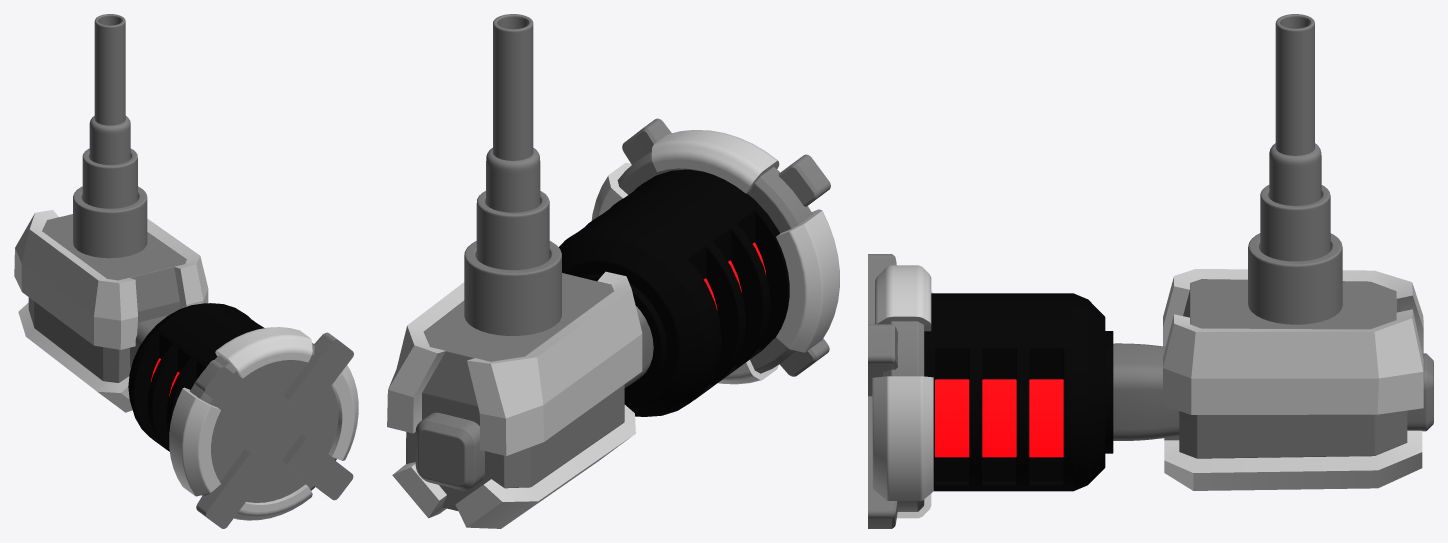
The model's file is LaserShooterFixed3.fbx.
The picture shows the model from 3 angles, left to right: view 1: azimuth 30°, elevation 25°; view 2: azimuth 150°, elevation 25°; view 3: azimuth 270°, elevation 25°; orthographic projection. The views are drawn at different scales.
Parts seen in each view (by area): view 1: ok, Cylinder.002, Cylinder.005, Cube.004, Cylinder.001, Cylinder.004, Cylinder.006_Plate.002, Cylinder.006_Plate, Cube.007, Cube.006, Cylinder.006_Plate.001, Cube.005 (+4 smaller); view 2: Cylinder.005, ok, Cube.004, Cylinder.001, Cylinder.006_Plate.002, Cube.009, Cylinder.006_Plate, Cylinder.004, Cube.003, Cylinder.006_Plate.001, Cylinder.002, Cylinder.006 (+3 smaller); view 3: Cylinder.005, ok, Cube.004, Cube.009, Cylinder.007, Cylinder.001, Cube.003, Cylinder.006_Plate.002, Cylinder.006_Plate, Cylinder.006_Plate.001, Cylinder.004, Cylinder.006 (+4 smaller).
Boxes of the visible parts, x1,y1,x2,y2 form: ok: (14,210,208,349); Cylinder.002: (190,343,338,502); Cylinder.005: (128,303,264,451); Cube.004: (28,214,186,382); Cylinder.001: (169,365,358,496); Cylinder.004: (215,327,312,520); Cylinder.006_Plate.002: (73,186,147,258); Cylinder.006_Plate: (94,14,125,125); Cube.007: (283,332,353,415); Cube.006: (196,449,270,528); Cylinder.006_Plate.001: (82,148,137,208); Cube.005: (195,360,271,427); Cylinder.005: (558,169,789,416); ok: (387,271,642,455); Cube.004: (406,273,624,511); Cylinder.001: (591,162,839,352); Cylinder.006_Plate.002: (464,241,561,335); Cube.009: (392,405,635,528); Cylinder.006_Plate: (493,14,533,160); Cylinder.004: (651,130,779,384); Cube.003: (415,306,653,490); Cylinder.006_Plate.001: (476,191,549,269); Cylinder.002: (617,151,812,373); Cylinder.006: (486,148,540,212); Cylinder.005: (924,293,1113,491); ok: (1163,269,1423,414); Cube.004: (1179,279,1407,458); Cube.009: (1164,430,1422,490); Cylinder.007: (935,379,1063,457); Cylinder.001: (872,291,933,500); Cube.003: (1113,343,1433,440); Cylinder.006_Plate.002: (1248,233,1342,324); Cylinder.006_Plate: (1275,14,1314,155); Cylinder.006_Plate.001: (1260,185,1330,261); Cylinder.004: (875,265,931,518); Cylinder.006: (1269,143,1321,205).
Bounding box in the file's own units: 1249 × 2582 × 2730.
